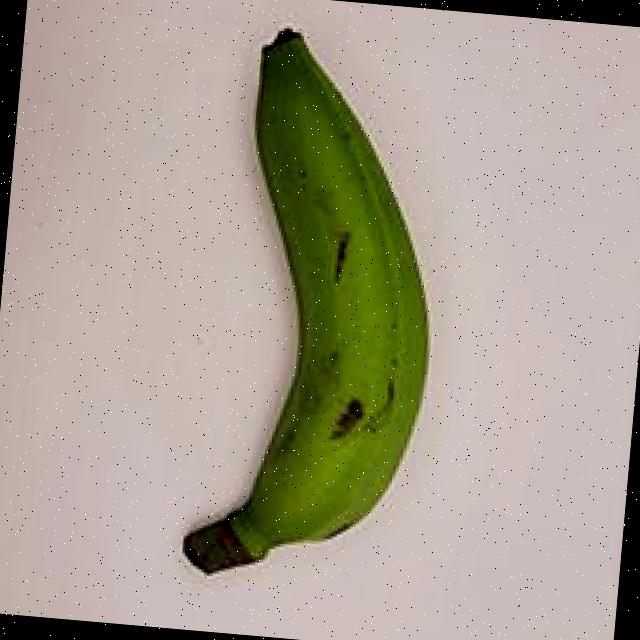Raw: (126, 0, 483, 611)
